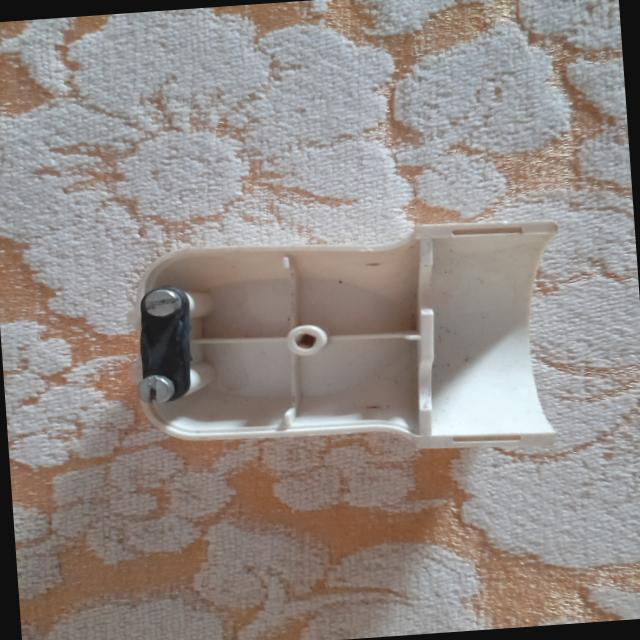Slotted: (134, 373, 174, 406), (142, 286, 182, 318)
